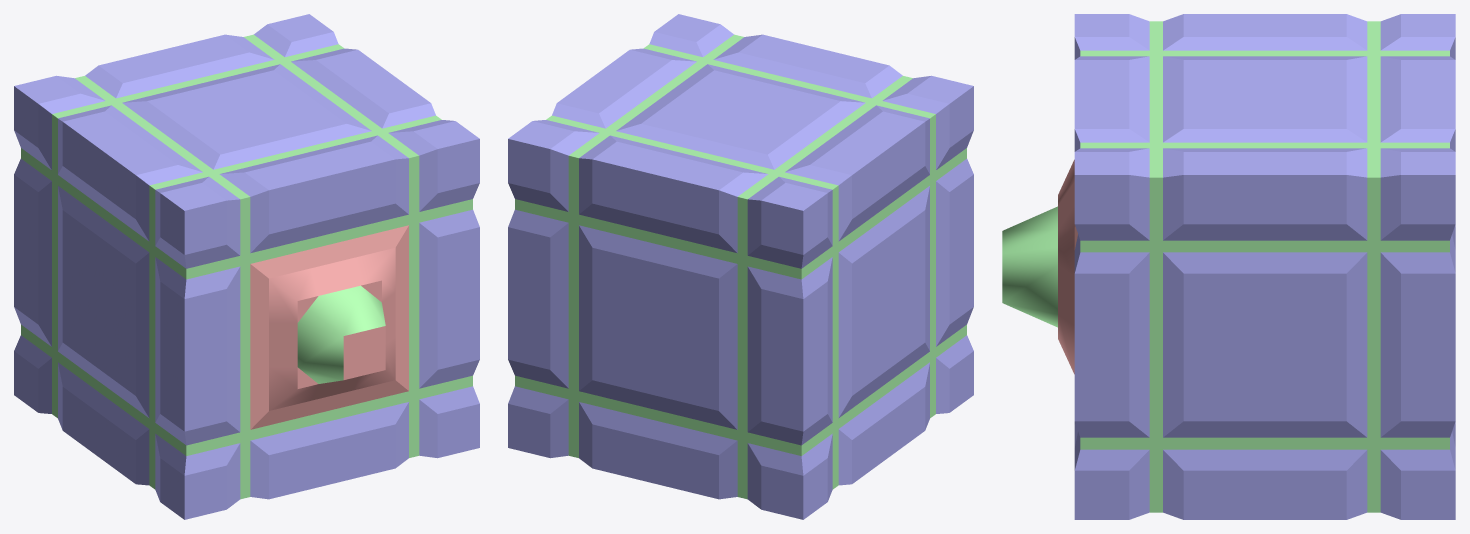
File: spawner.fbx
3 views of the same model, side by side, from view 1: azimuth 30°, elevation 25°; view 2: azimuth 150°, elevation 25°; view 3: azimuth 270°, elevation 25° (orthographic). The views are drawn at different scales.
Parts seen in each view (by area): view 1: cube; view 2: cube; view 3: cube.
Part boxes in pixels (x1=…): cube: x1=14, y1=14, x2=479, y2=519; cube: x1=508, y1=14, x2=973, y2=519; cube: x1=1002, y1=14, x2=1455, y2=519.
Bounding box in the file's own units: 6 × 6 × 7.14.
